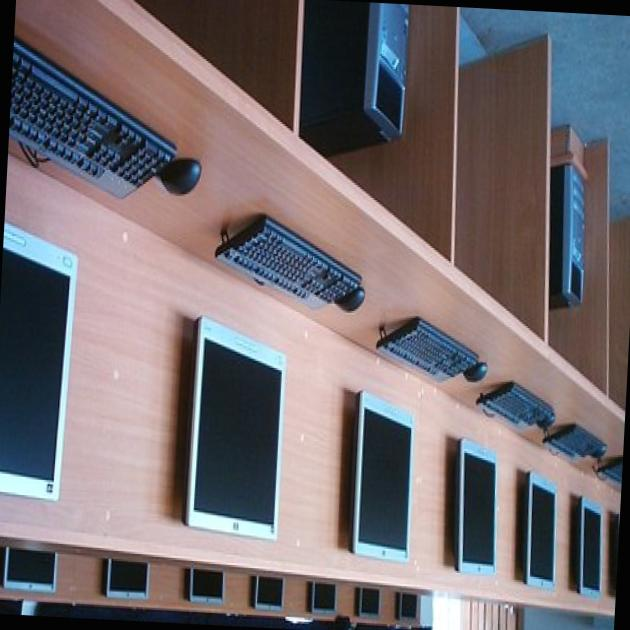desk: (14, 0, 630, 449)
